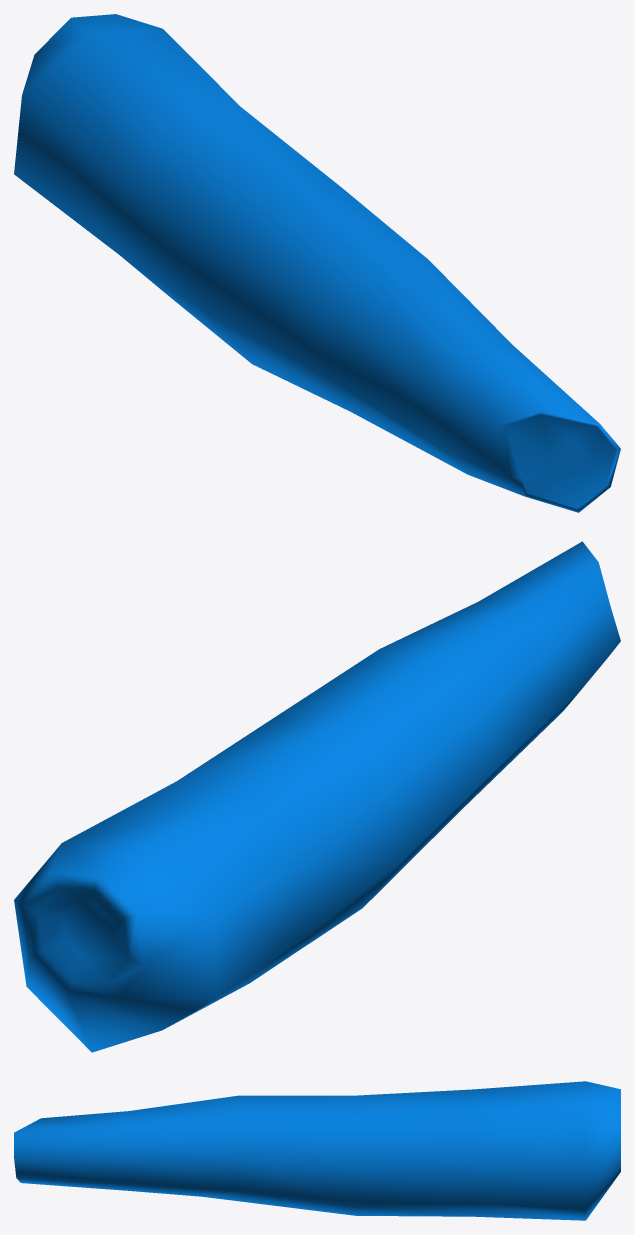
The model's file is Mesh_carrot_chipped.fbx.
3 renders of one model, top to bottom at view 1: azimuth 30°, elevation 25°; view 2: azimuth 150°, elevation 25°; view 3: azimuth 270°, elevation 25°, orthographic. The views are drawn at different scales.
Visible parts, largest first — view 1: carrot.cracked; view 2: carrot.cracked; view 3: carrot.cracked.
Part boxes in pixels (x1,y1,x2,y2): carrot.cracked: (14,14,620,512); carrot.cracked: (14,541,620,1052); carrot.cracked: (14,1081,620,1220).
Bounding box in the file's own units: 12.6 × 12.66 × 55.59.
